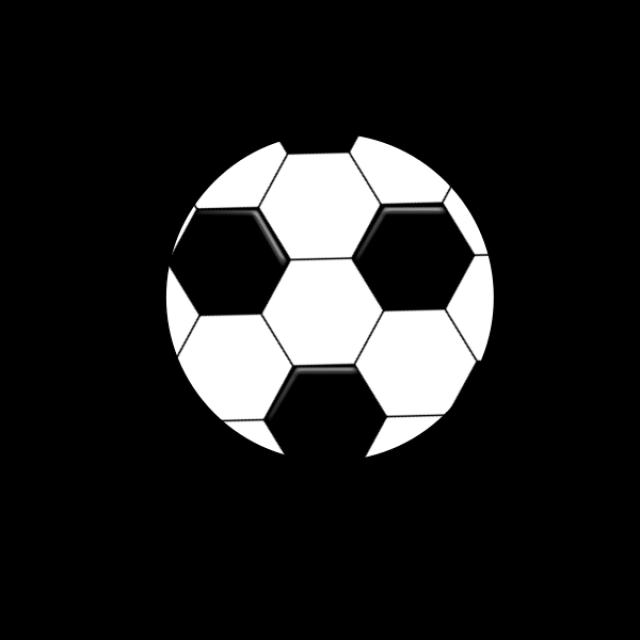soccer ball: (165, 130, 496, 469)
